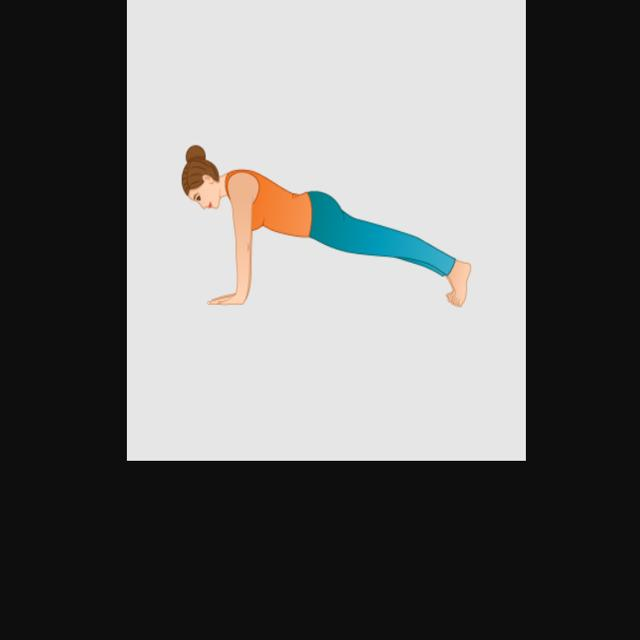Plank_Pose: (177, 142, 475, 314)
